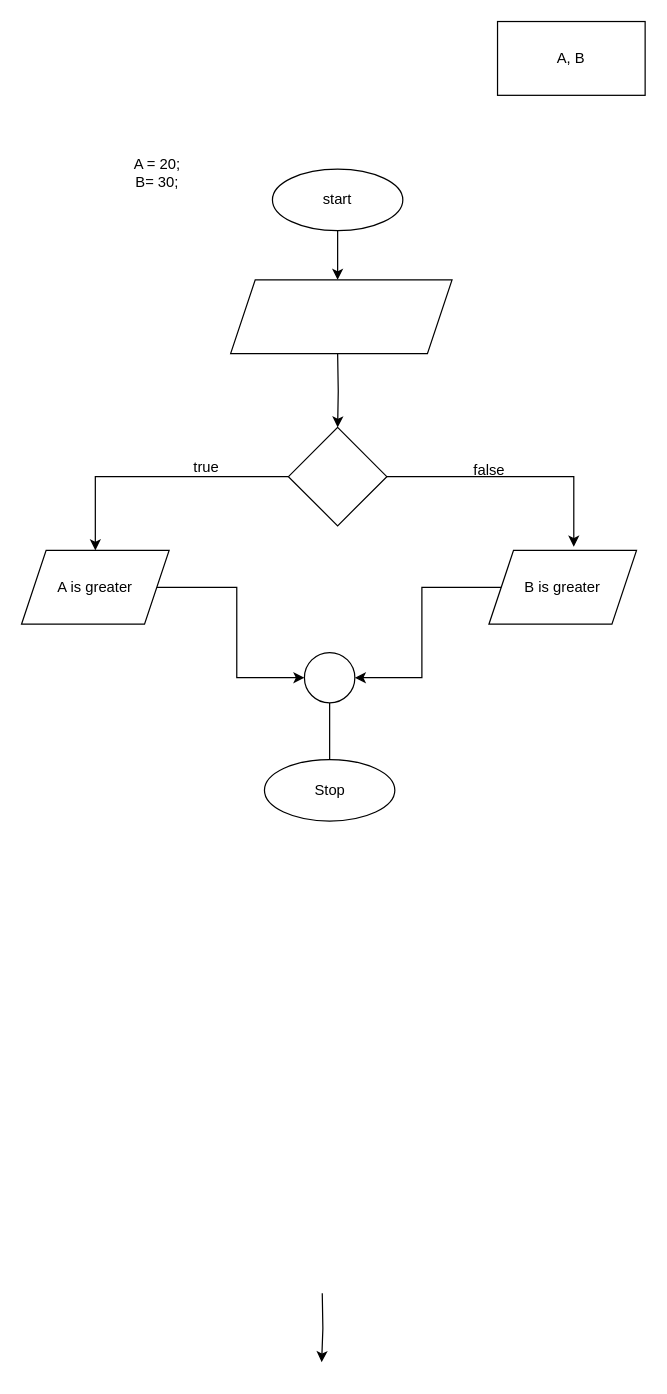
Some shapes in this 667 by 1394 pixel diagram are drawn without their labels. The shapes that lost their labels are listed below. From the top down, each one's box as (x1, y1, x2, y2) in pixels, then its label:
(229, 279, 452, 354): A B
(287, 426, 387, 526): A > B
